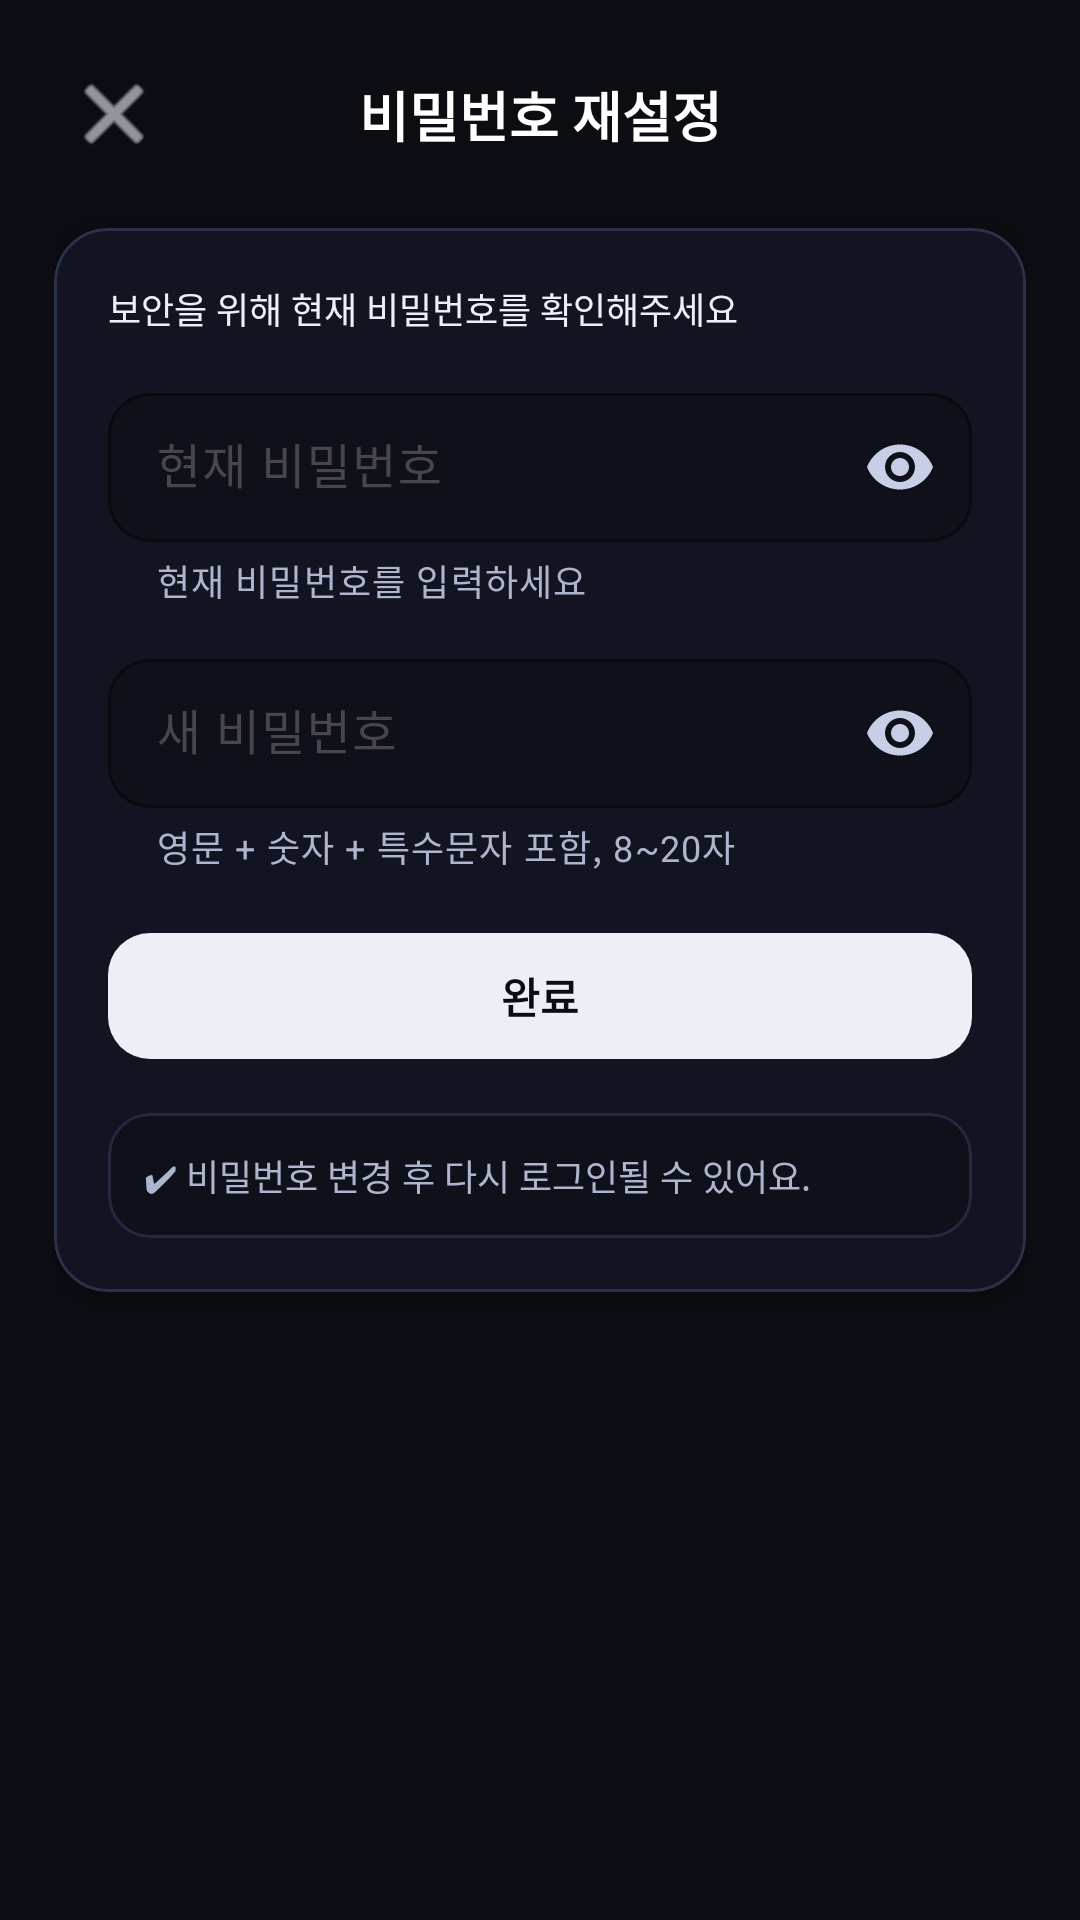

Icon bounding boxes for this 1080px×1920px phone screenshot, format bbox=[x1, y1, x2, y2]:
close clear cancel: bbox=[84, 84, 144, 144]
